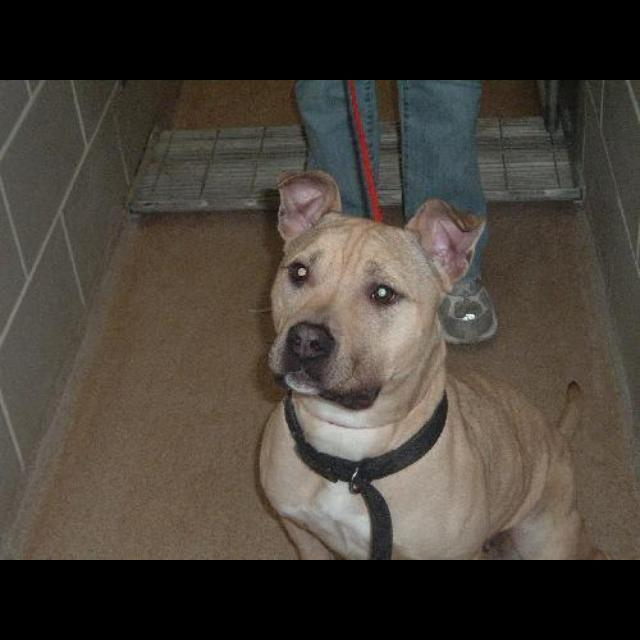staffford: (253, 169, 607, 560)
